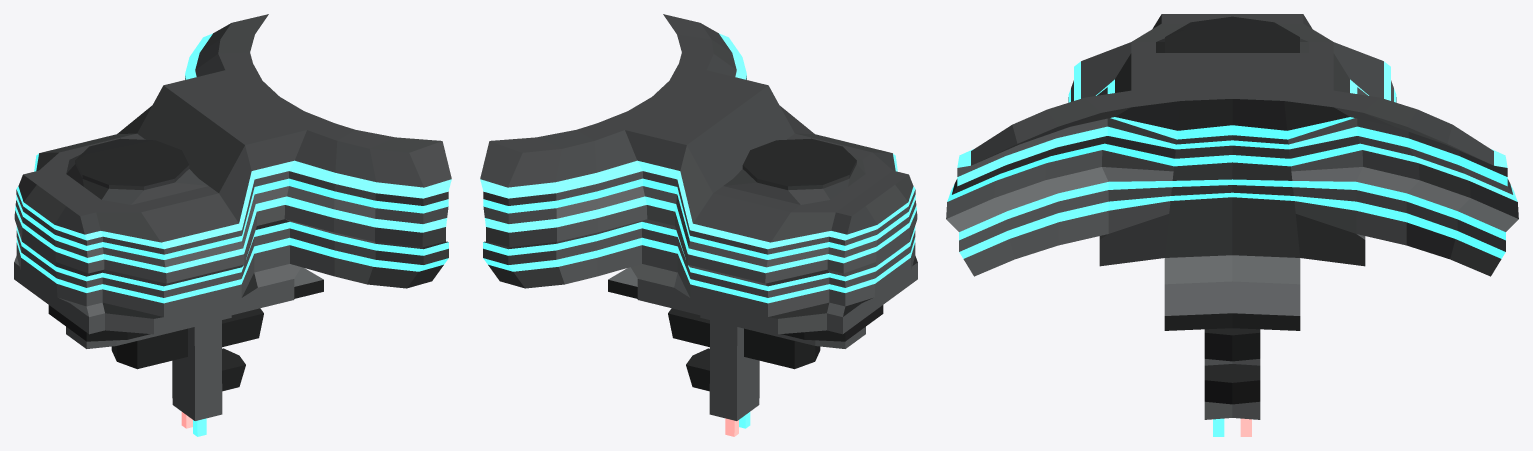
Rendered from Spacestation_1_-_Part_2_LODGroup.fbx.
3 views of the same model, side by side, from view 1: azimuth 30°, elevation 25°; view 2: azimuth 150°, elevation 25°; view 3: azimuth 270°, elevation 25° (orthographic). The views are drawn at different scales.
Parts seen in each view (by area): view 1: SpaceStation 1 - Part 2_LOD0; view 2: SpaceStation 1 - Part 2_LOD0; view 3: SpaceStation 1 - Part 2_LOD0.
Boxes of the visible parts, x1,y1,x2,y2 form: SpaceStation 1 - Part 2_LOD0: (14,14,451,436); SpaceStation 1 - Part 2_LOD0: (480,14,917,436); SpaceStation 1 - Part 2_LOD0: (946,14,1518,436).
Size of what is drawn, in the model's own units: 683 by 645 by 862.
